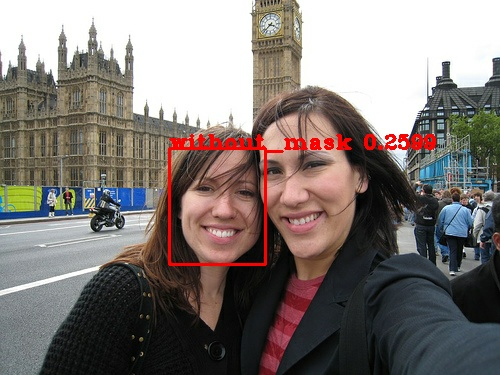without_mask: (253, 102, 368, 267), (172, 137, 265, 273)
